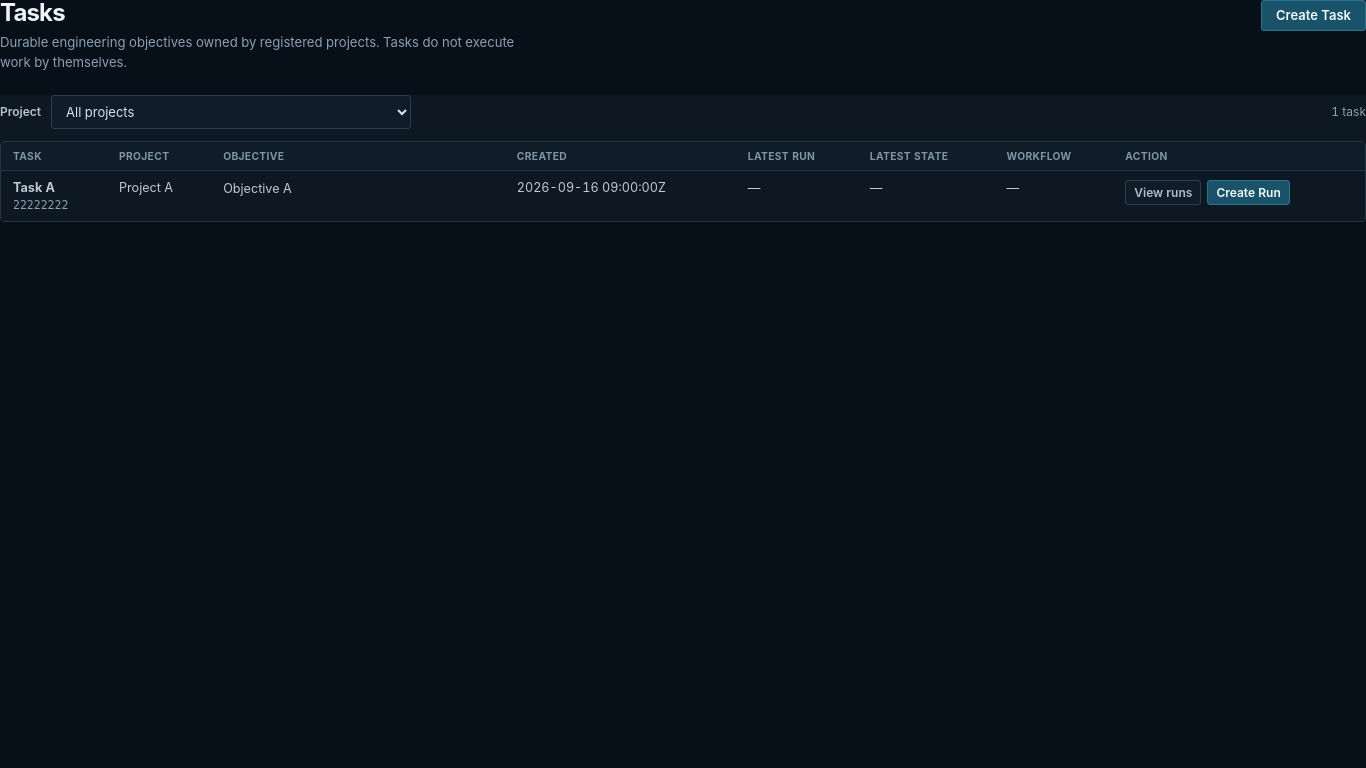
Scenario: TasksPage operational integration › creates a durable Run without claiming executor activity
The width and height of the screenshot is (1366, 768).
Expected: the text "Task A" is shown, [13,180,55,195]
Click the button with aria-label "Create run for Task A": {"x": 1249, "y": 192} [1207,180,1290,205]
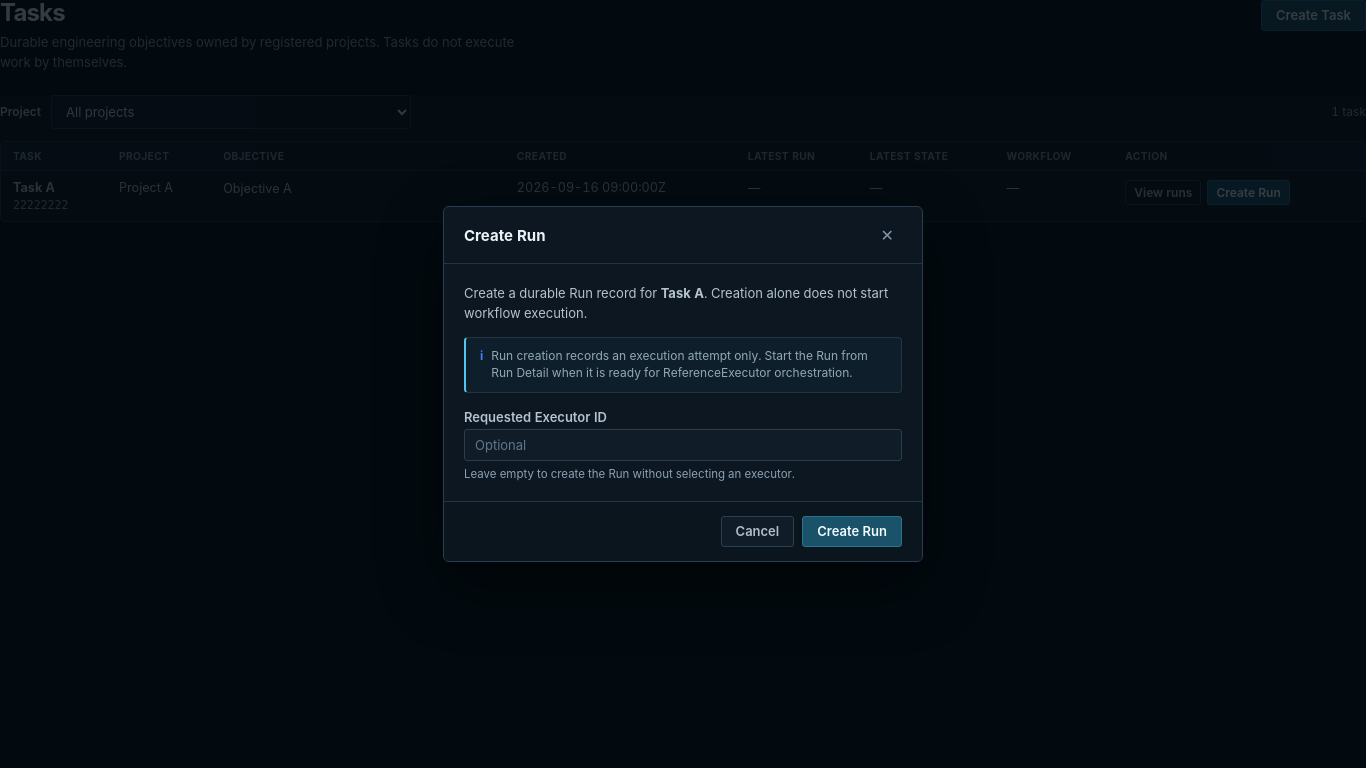
Result: the dialog "Create Run" shows "Creation alone does not start workflow execution." at [464,285,888,321]
Click the button "Create Run": {"x": 852, "y": 532} [802,516,902,547]
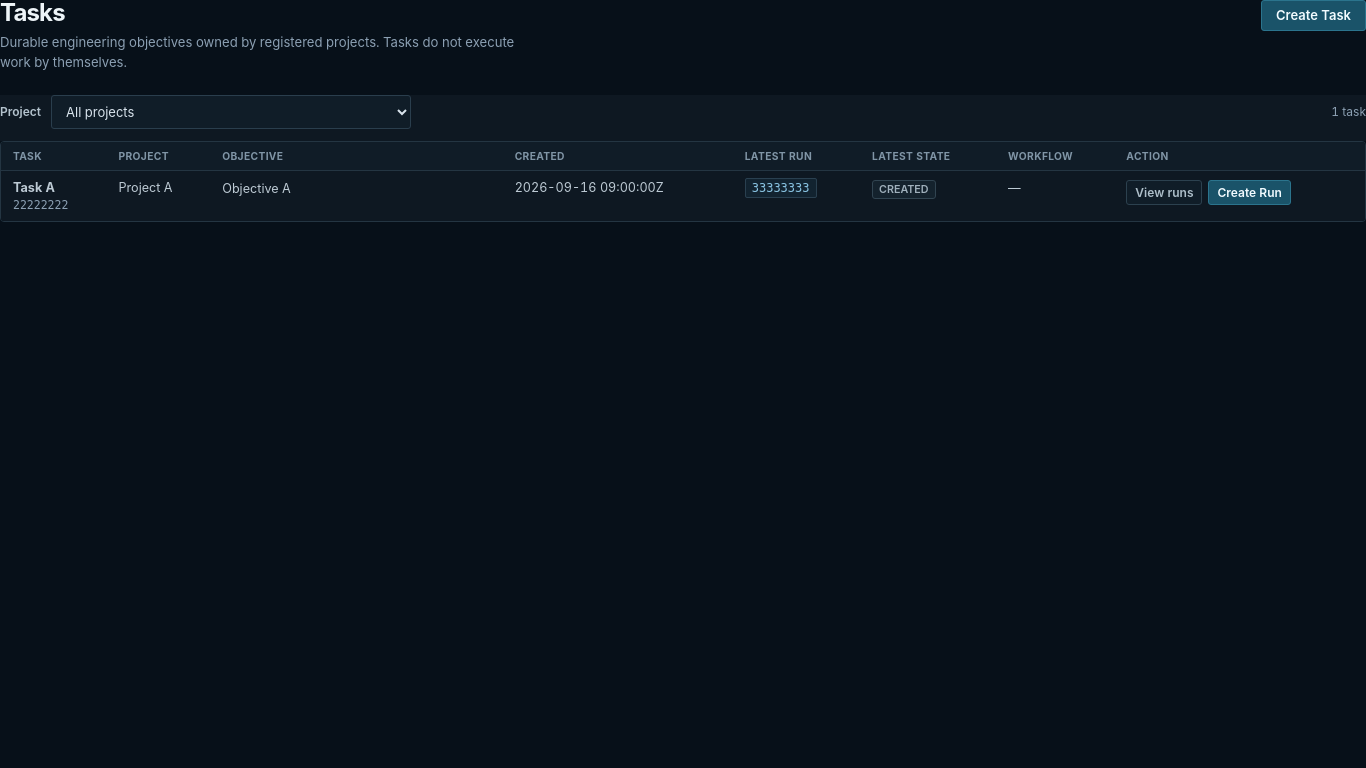
Result: the text "CREATED" is shown at [872,180,936,199]
